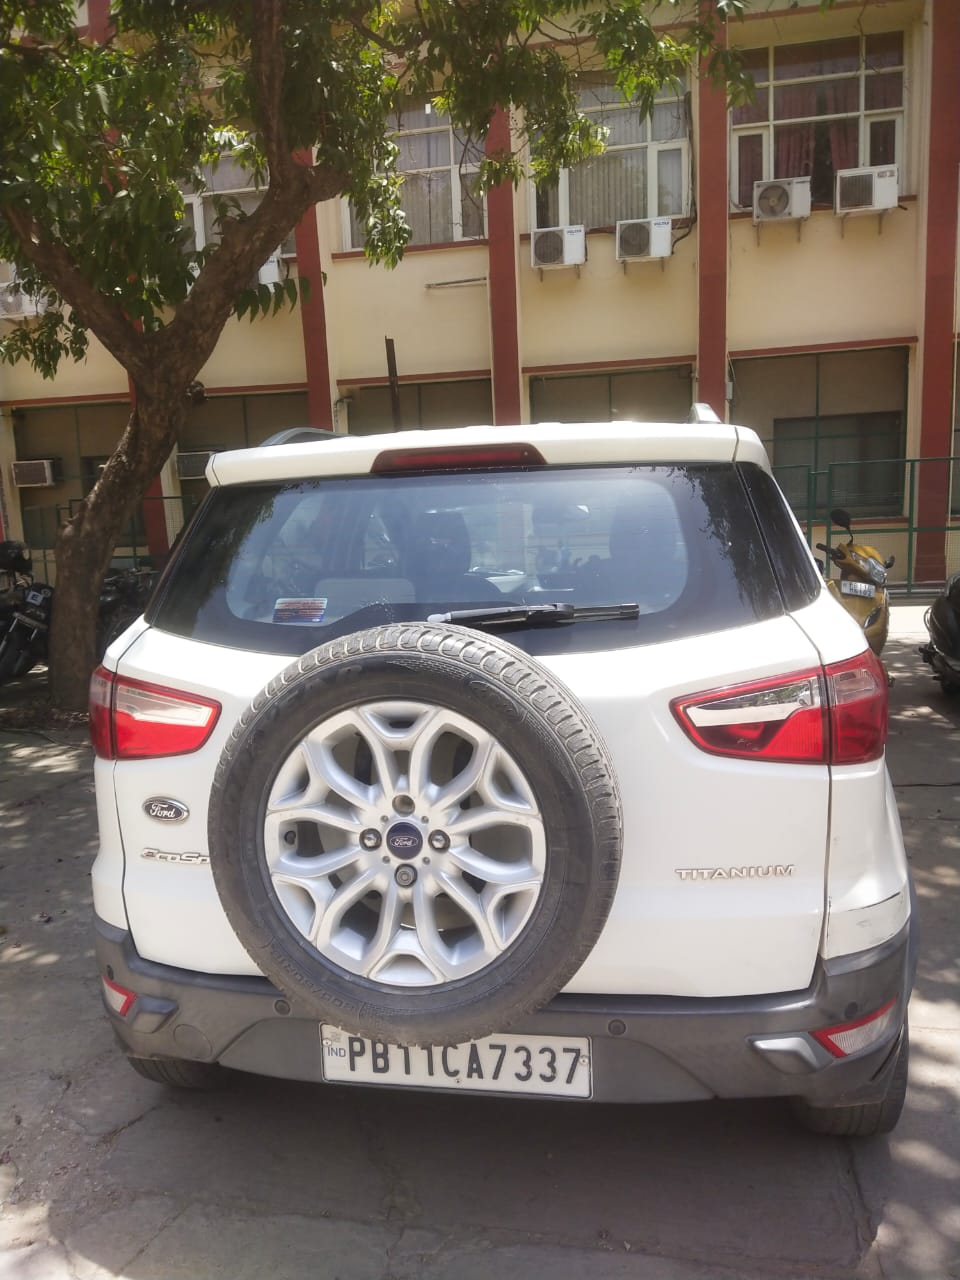license plate: (321, 1025, 591, 1097)
